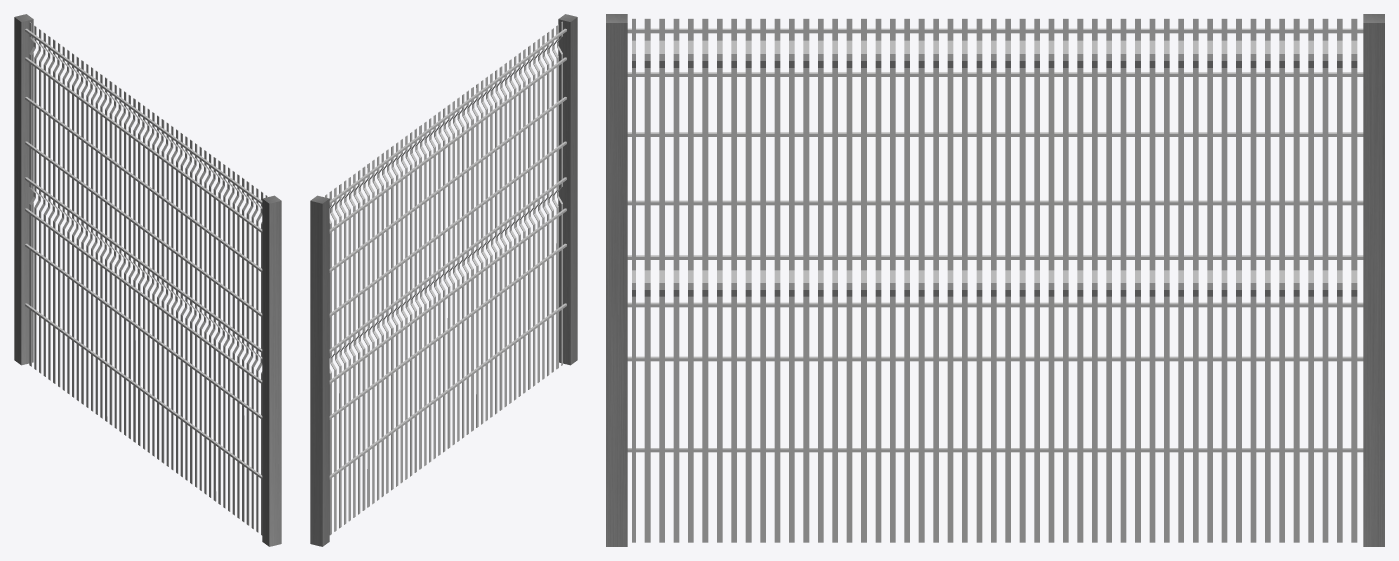
Rendered from fence.obj.
3 renders of one model, left to right at view 1: azimuth 30°, elevation 25°; view 2: azimuth 150°, elevation 25°; view 3: azimuth 270°, elevation 25°, orthographic. The views are drawn at different scales.
Parts seen in each view (by area): view 1: Plane, Plane.001, Cube, Cube.001; view 2: Plane, Plane.001, Cube.001, Cube; view 3: Plane, Plane.001, Cube, Cube.001.
Boxes of the visible parts, x1,y1,x2,y2 form: Plane: (29,22,267,535); Plane.001: (25,28,262,479); Cube: (262,195,281,546); Cube.001: (14,14,33,365); Plane: (325,21,562,535); Plane.001: (329,28,566,479); Cube.001: (310,195,329,546); Cube: (558,14,577,365); Plane: (632,18,1357,542); Plane.001: (627,28,1363,452); Cube: (606,14,627,546); Cube.001: (1363,14,1384,546).
Size of the model in its own units: 0.0572 by 1.53 by 2.06.
